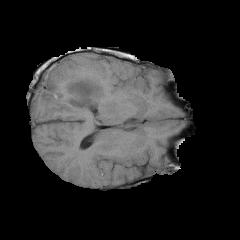glioma: (31, 58, 109, 129)
